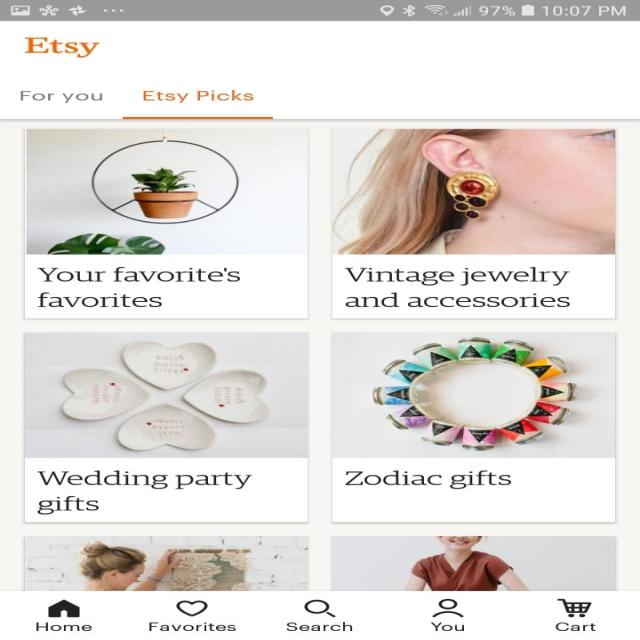Icon: (556, 598, 592, 617), (46, 598, 79, 617), (430, 598, 463, 617), (303, 599, 336, 617), (175, 599, 208, 616)
Image: (329, 331, 616, 458), (332, 128, 616, 254), (24, 332, 308, 458), (25, 129, 308, 255), (330, 535, 616, 590), (24, 536, 308, 590)
Text: (36, 470, 252, 514), (344, 266, 570, 308), (36, 266, 240, 308), (344, 470, 511, 489), (24, 36, 100, 58), (142, 89, 254, 103), (20, 90, 104, 104), (148, 621, 236, 631), (285, 621, 353, 631), (34, 621, 92, 631), (554, 621, 596, 631), (429, 621, 464, 631)
